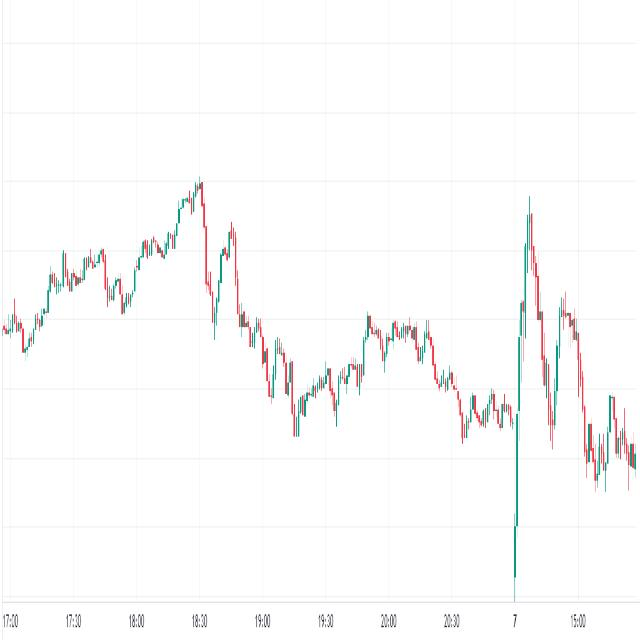Rounding-Bottom: (237, 289, 371, 451)
